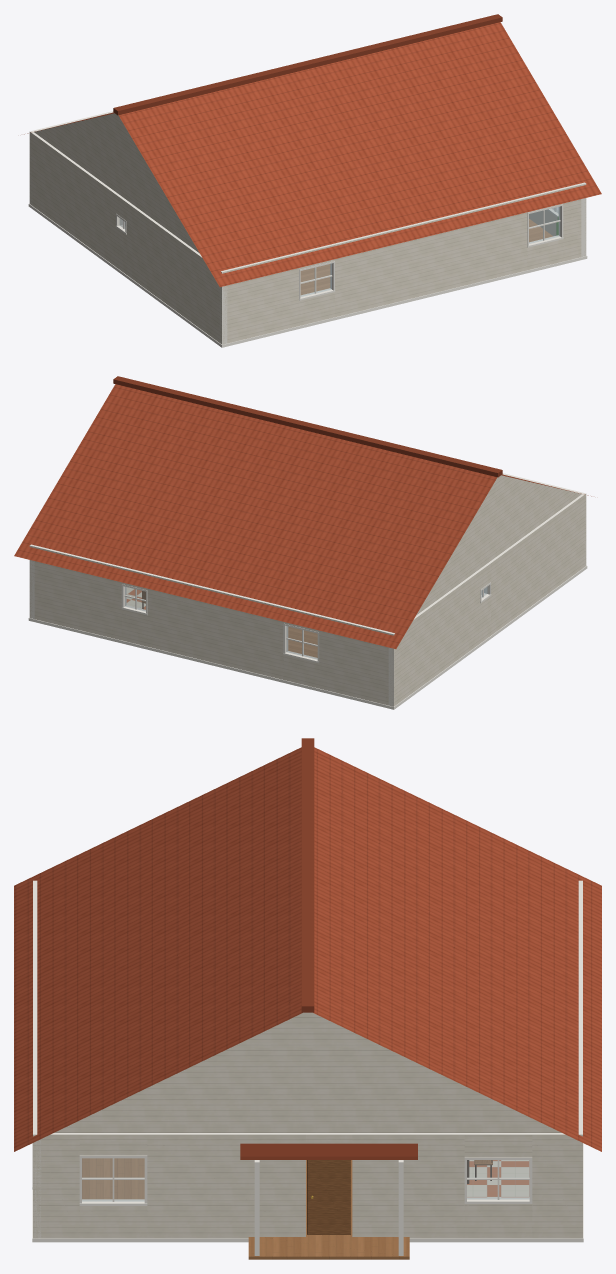
Rendered from home.glb.
3 renders of one model, top to bottom at view 1: azimuth 30°, elevation 25°; view 2: azimuth 150°, elevation 25°; view 3: azimuth 270°, elevation 25°, orthographic. The views are drawn at different scales.
Parts seen in each view (by area): view 1: HomeRoof, Wall_north_3, Wall_back_3, Wall_back_0, Wall_north_0, HomeBase, Wall_north_6, Wall_north_1, Wall_north_4, Wall_north_g1, Wall_north_g0, Floor_bedA (+2 smaller); view 2: HomeRoof, Wall_south_3, Wall_back_3, Wall_back_0, Wall_south_6, Wall_south_0, HomeBase, Wall_south_1, Wall_south_4, Wall_south_g0, Floor_bedB, Wall_south_w0; view 3: HomeRoof, Wall_front_5, Wall_front_3, Wall_front_0, Wall_front_8, Porch, F_FrontDoor, Floor_living, Wall_front_g2, Wall_front_1, Wall_front_g0, Wall_front_6 (+6 smaller).
Part boxes in pixels (left/top/right/bottom): HomeRoof: left=24, top=14, right=601, bottom=286; Wall_north_3: left=334, top=197, right=527, bottom=317; Wall_back_3: left=126, top=202, right=227, bottom=344; Wall_back_0: left=29, top=131, right=118, bottom=266; Wall_north_0: left=219, top=252, right=298, bottom=344; HomeBase: left=28, top=203, right=587, bottom=347; Wall_north_6: left=562, top=183, right=586, bottom=261; Wall_north_1: left=299, top=292, right=334, bottom=325; Wall_north_4: left=527, top=239, right=563, bottom=270; Wall_north_g1: left=529, top=207, right=559, bottom=243; Wall_north_g0: left=301, top=263, right=331, bottom=296; Floor_bedA: left=300, top=264, right=330, bottom=294; HomeRoof: left=14, top=376, right=591, bottom=648; Wall_south_3: left=147, top=573, right=284, bottom=679; Wall_back_3: left=488, top=493, right=586, bottom=635; Wall_back_0: left=388, top=570, right=480, bottom=706; Wall_south_6: left=29, top=545, right=122, bottom=640; Wall_south_0: left=319, top=615, right=396, bottom=706; HomeBase: left=28, top=565, right=587, bottom=709; Wall_south_1: left=283, top=655, right=319, bottom=688; Wall_south_4: left=122, top=609, right=147, bottom=646; Wall_south_g0: left=286, top=626, right=317, bottom=659; Floor_bedB: left=288, top=627, right=317, bottom=657; Wall_south_w0: left=283, top=623, right=319, bottom=663; HomeRoof: left=14, top=738, right=601, bottom=1255; Wall_front_5: left=147, top=1133, right=305, bottom=1238; Wall_front_3: left=352, top=1133, right=464, bottom=1238; Wall_front_0: left=532, top=1131, right=582, bottom=1238; Wall_front_8: left=33, top=1132, right=79, bottom=1238; Porch: left=248, top=1235, right=409, bottom=1259; F_FrontDoor: left=307, top=1160, right=350, bottom=1234; Floor_living: left=82, top=1158, right=352, bottom=1235; Wall_front_g2: left=82, top=1158, right=144, bottom=1201; Wall_front_1: left=464, top=1204, right=532, bottom=1238; Wall_front_g0: left=467, top=1160, right=529, bottom=1199; Wall_front_6: left=79, top=1206, right=147, bottom=1238.
Size of the model in its own units: 15.94 by 6.33 by 13.9.
Materials: 36 (7 with a texture image).
